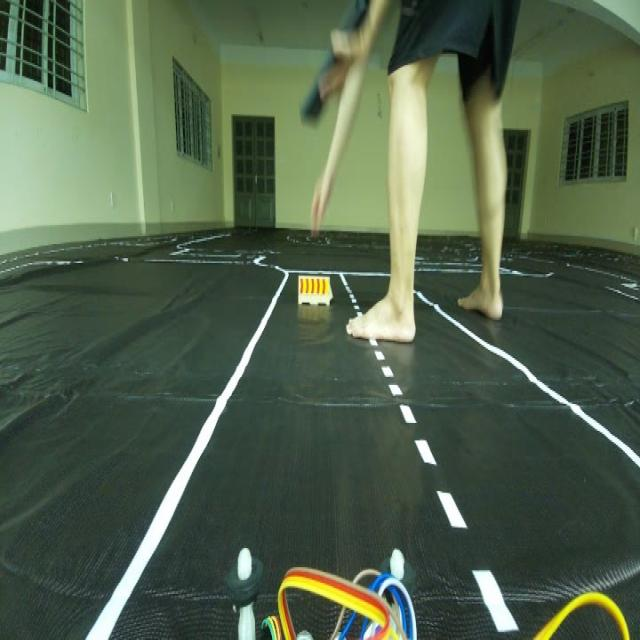roadblock: (292, 261, 338, 311)
